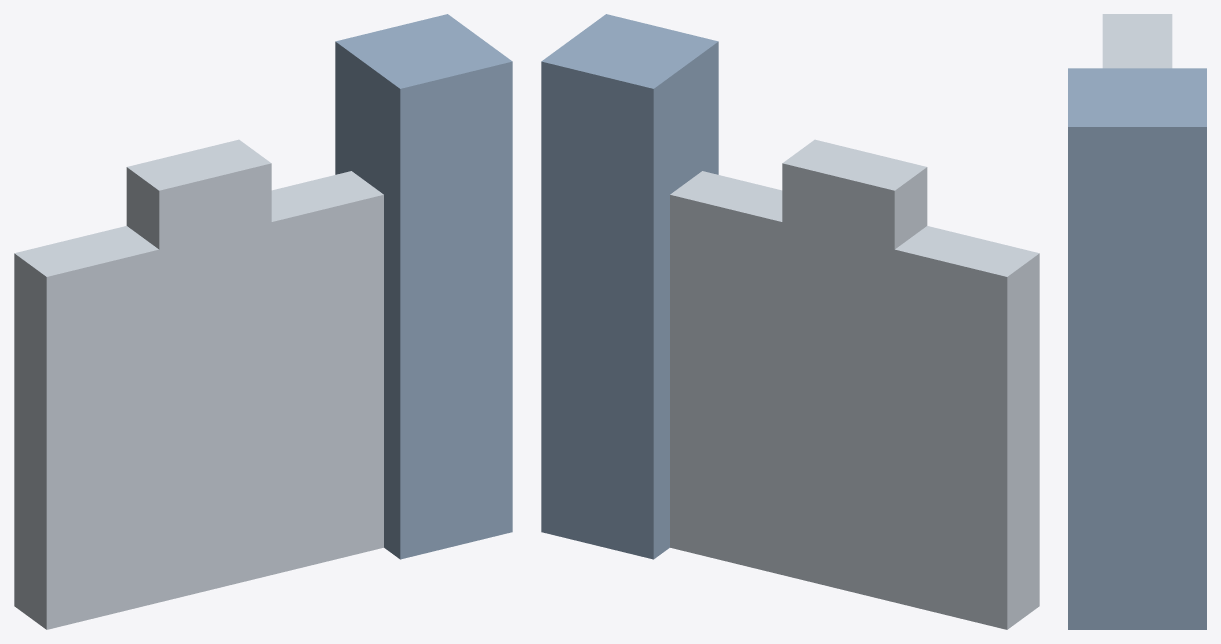
The model's file is stone-fence.obj.
3 renders of one model, left to right at view 1: azimuth 30°, elevation 25°; view 2: azimuth 150°, elevation 25°; view 3: azimuth 270°, elevation 25°, orthographic. The views are drawn at different scales.
Size of the model in its own units: 8 by 8 by 2.
1 material, 1 textured.
